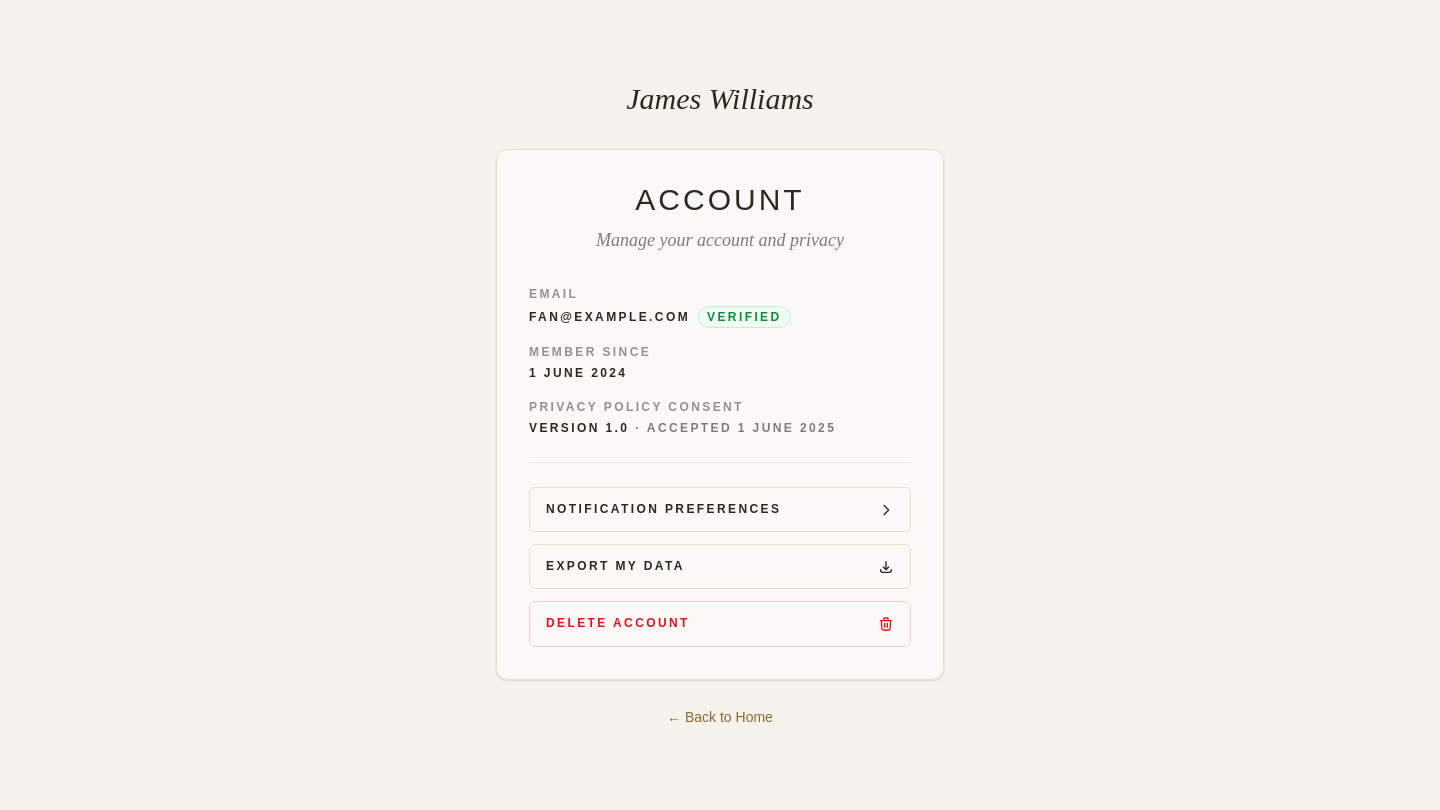
Test case: AccountSettings › opens delete dialog on button click
The width and height of the screenshot is (1440, 810).
Check: the text "Delete Account" is shown, box [546,614,690,634]
Click the button "Delete Account": (618, 623) [529,602,911,647]
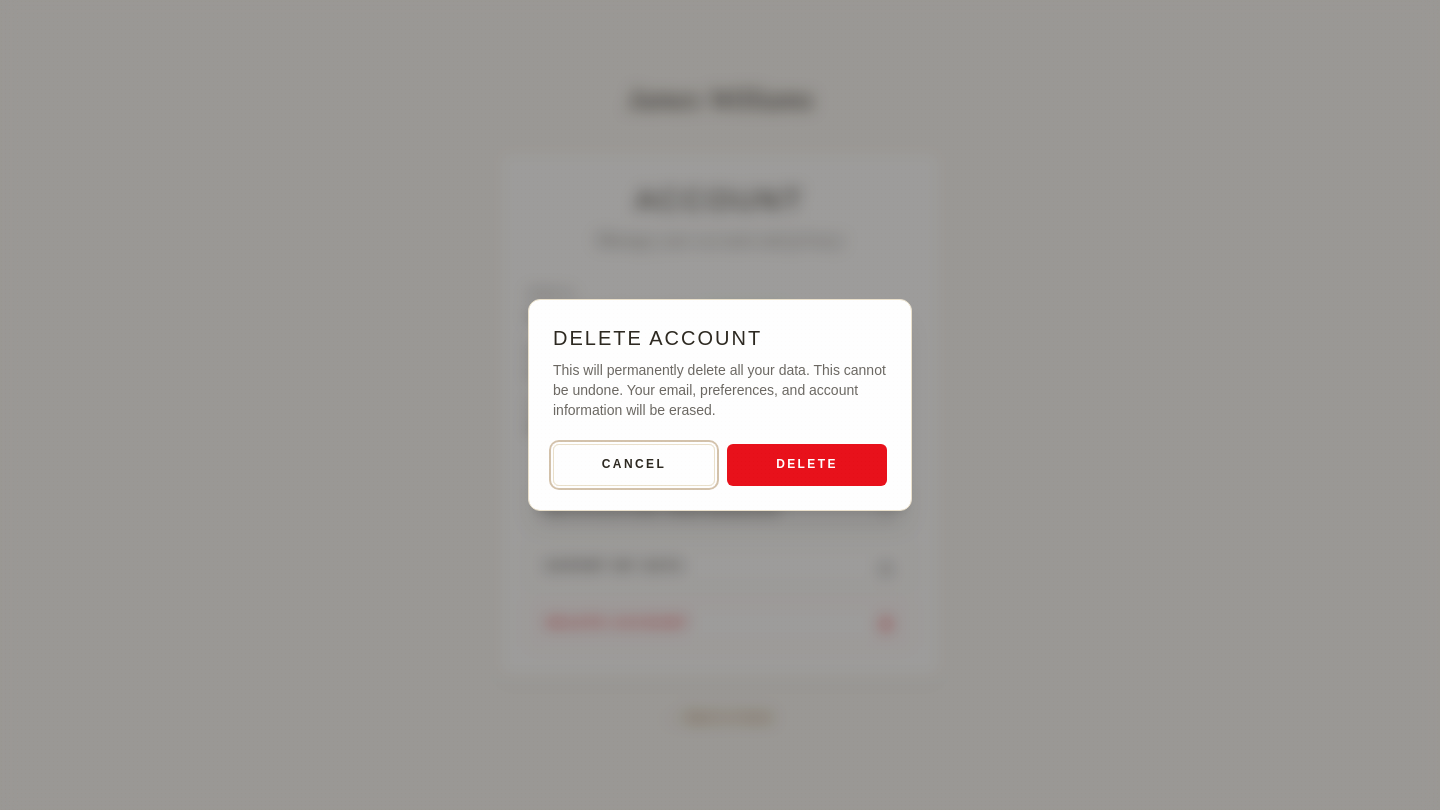
Check: the dialog is shown
